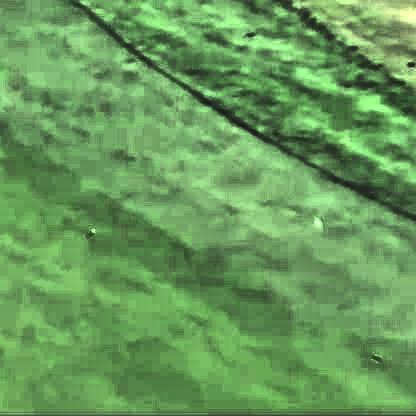golfball: (310, 214, 317, 225)
